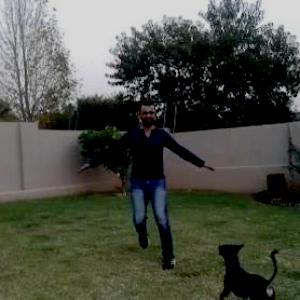land: (61, 73, 218, 284)
